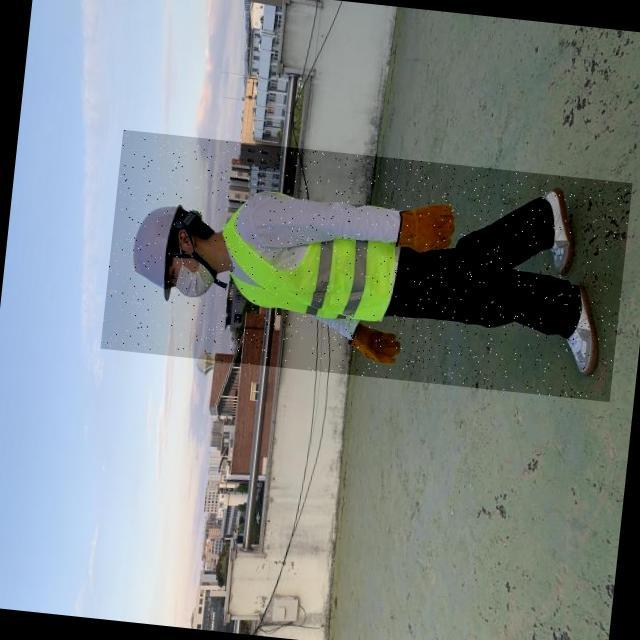Gloves: (392, 200, 464, 257), (342, 319, 409, 374)
Helmet: (123, 193, 188, 309)
Person: (104, 154, 629, 402)
Safety Boot: (543, 279, 615, 389), (528, 173, 590, 282)
Safety Vest: (216, 187, 410, 328)
